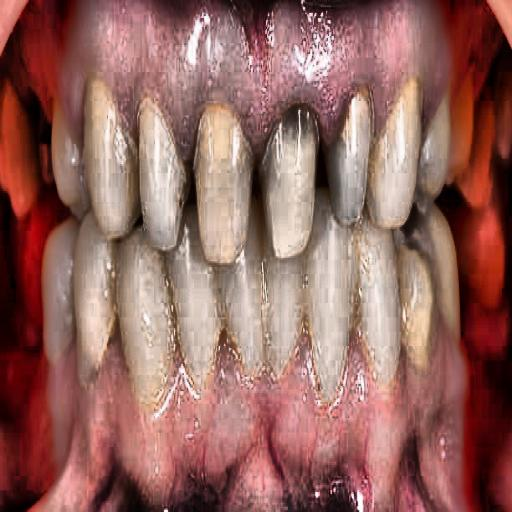Gingivitis: (45, 0, 491, 139)
